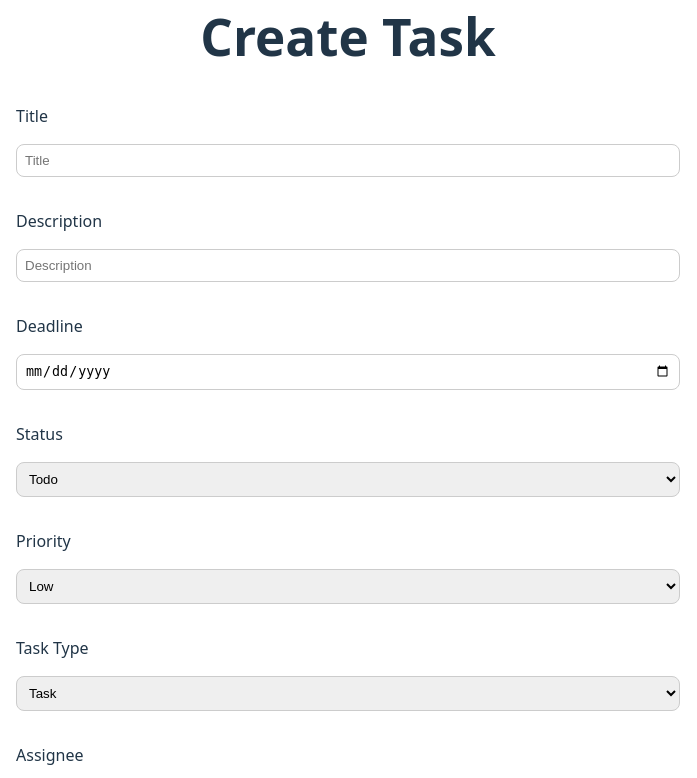
Test: CreateTaskPage › should show error when deadline is in the past
Step 1. Type "Test Task" into the field with placeholder "Title" → (348, 161), box [16, 144, 680, 177]
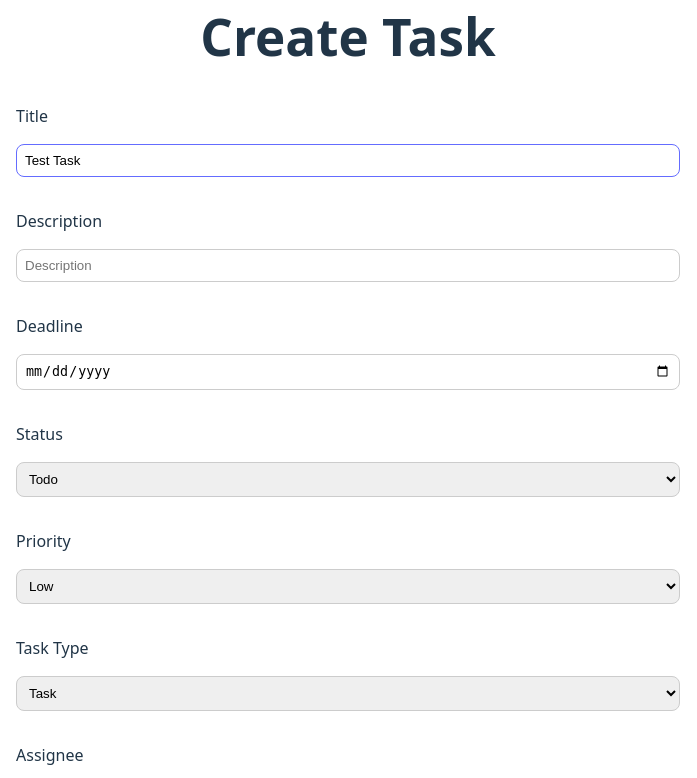
Step 2. Press Tab
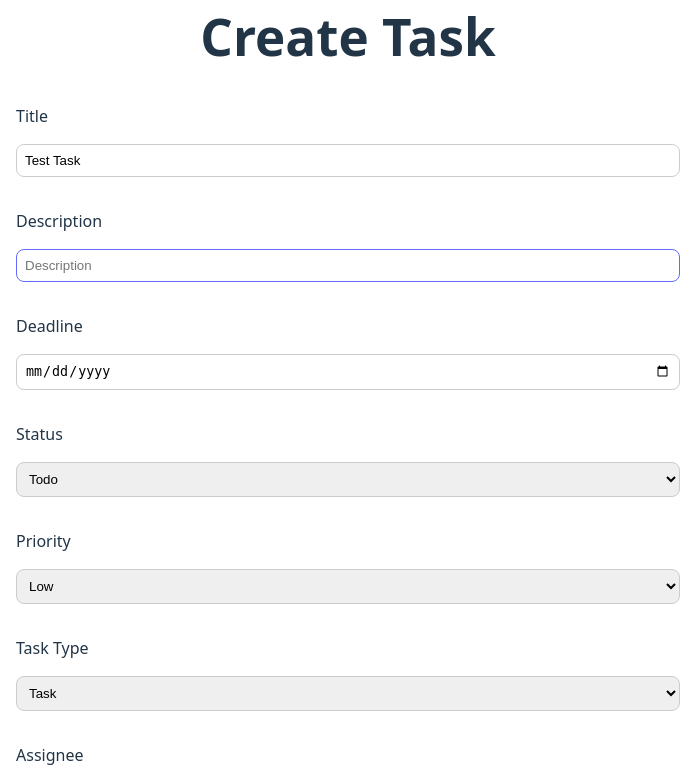
Step 3. Type "2024-12-31" into the date field labelled "Deadline" → (348, 372), box [16, 354, 680, 390]
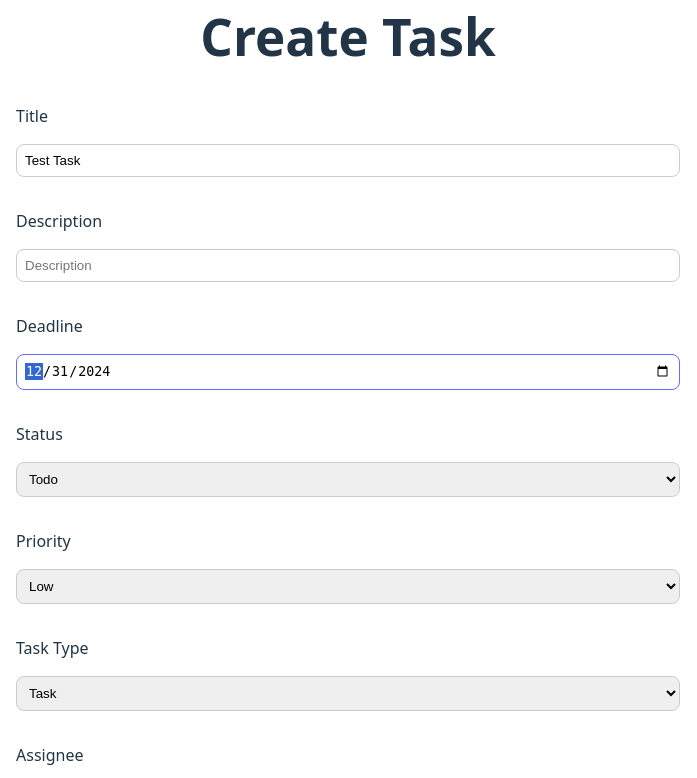
Step 4. Press Tab
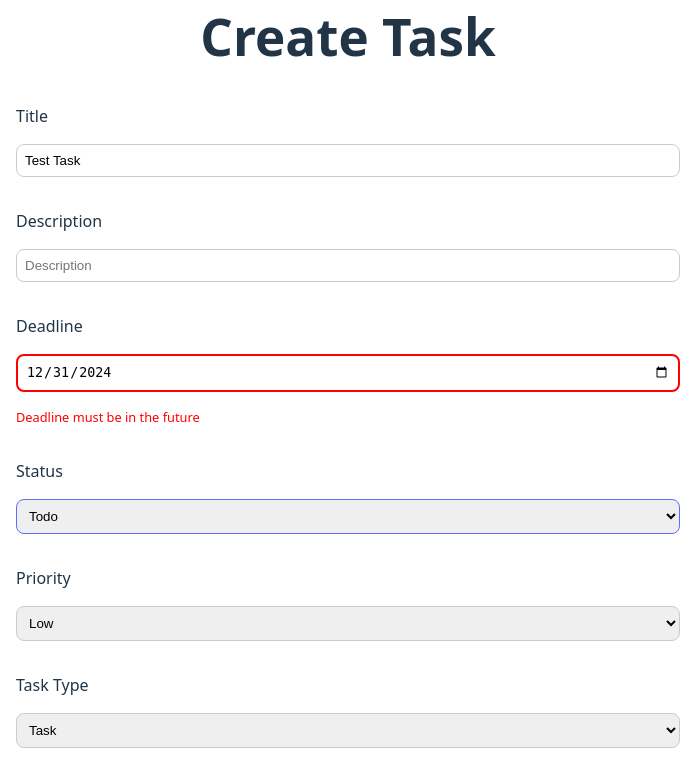
Result: the text "Deadline must be in the future" is shown at [16, 408, 200, 426]
